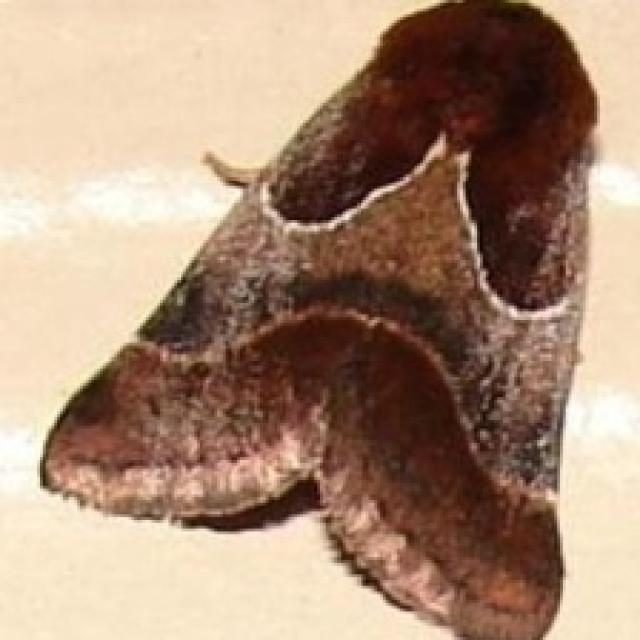butterfly: (37, 0, 600, 637)
